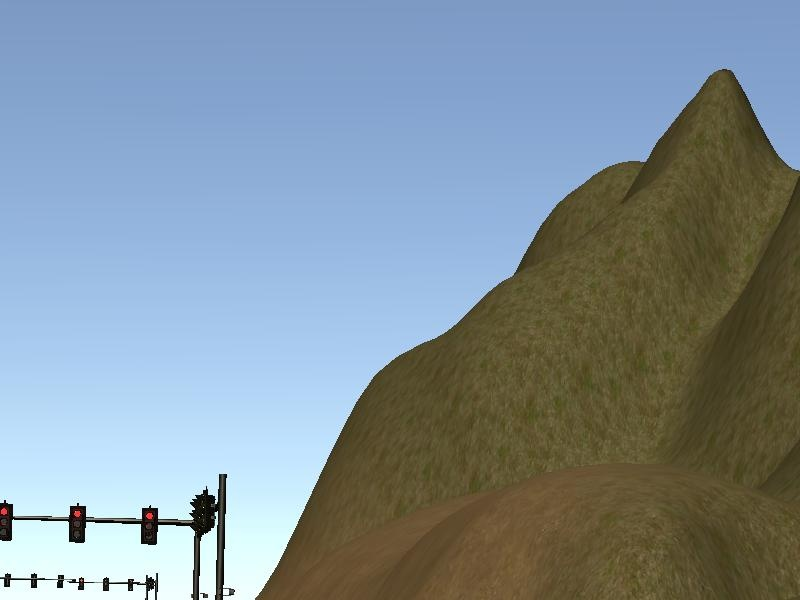traffic_light_red: (1, 501, 194, 546)
